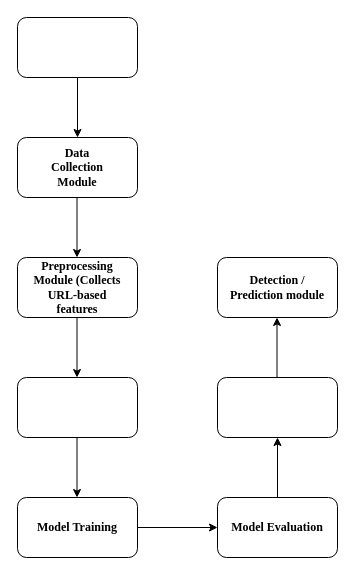
Some shapes in this 355 by 575 pixel diagram are drawn without their labels. The shapes that lost their labels are listed below. From the top down, each one's centre as x and y in pixels, then its label:
point (77, 47): Raw URL Data Sources
point (77, 407): Dataset Preparation (Labels data and train/test split)
point (277, 407): Feature Importance Analysis
